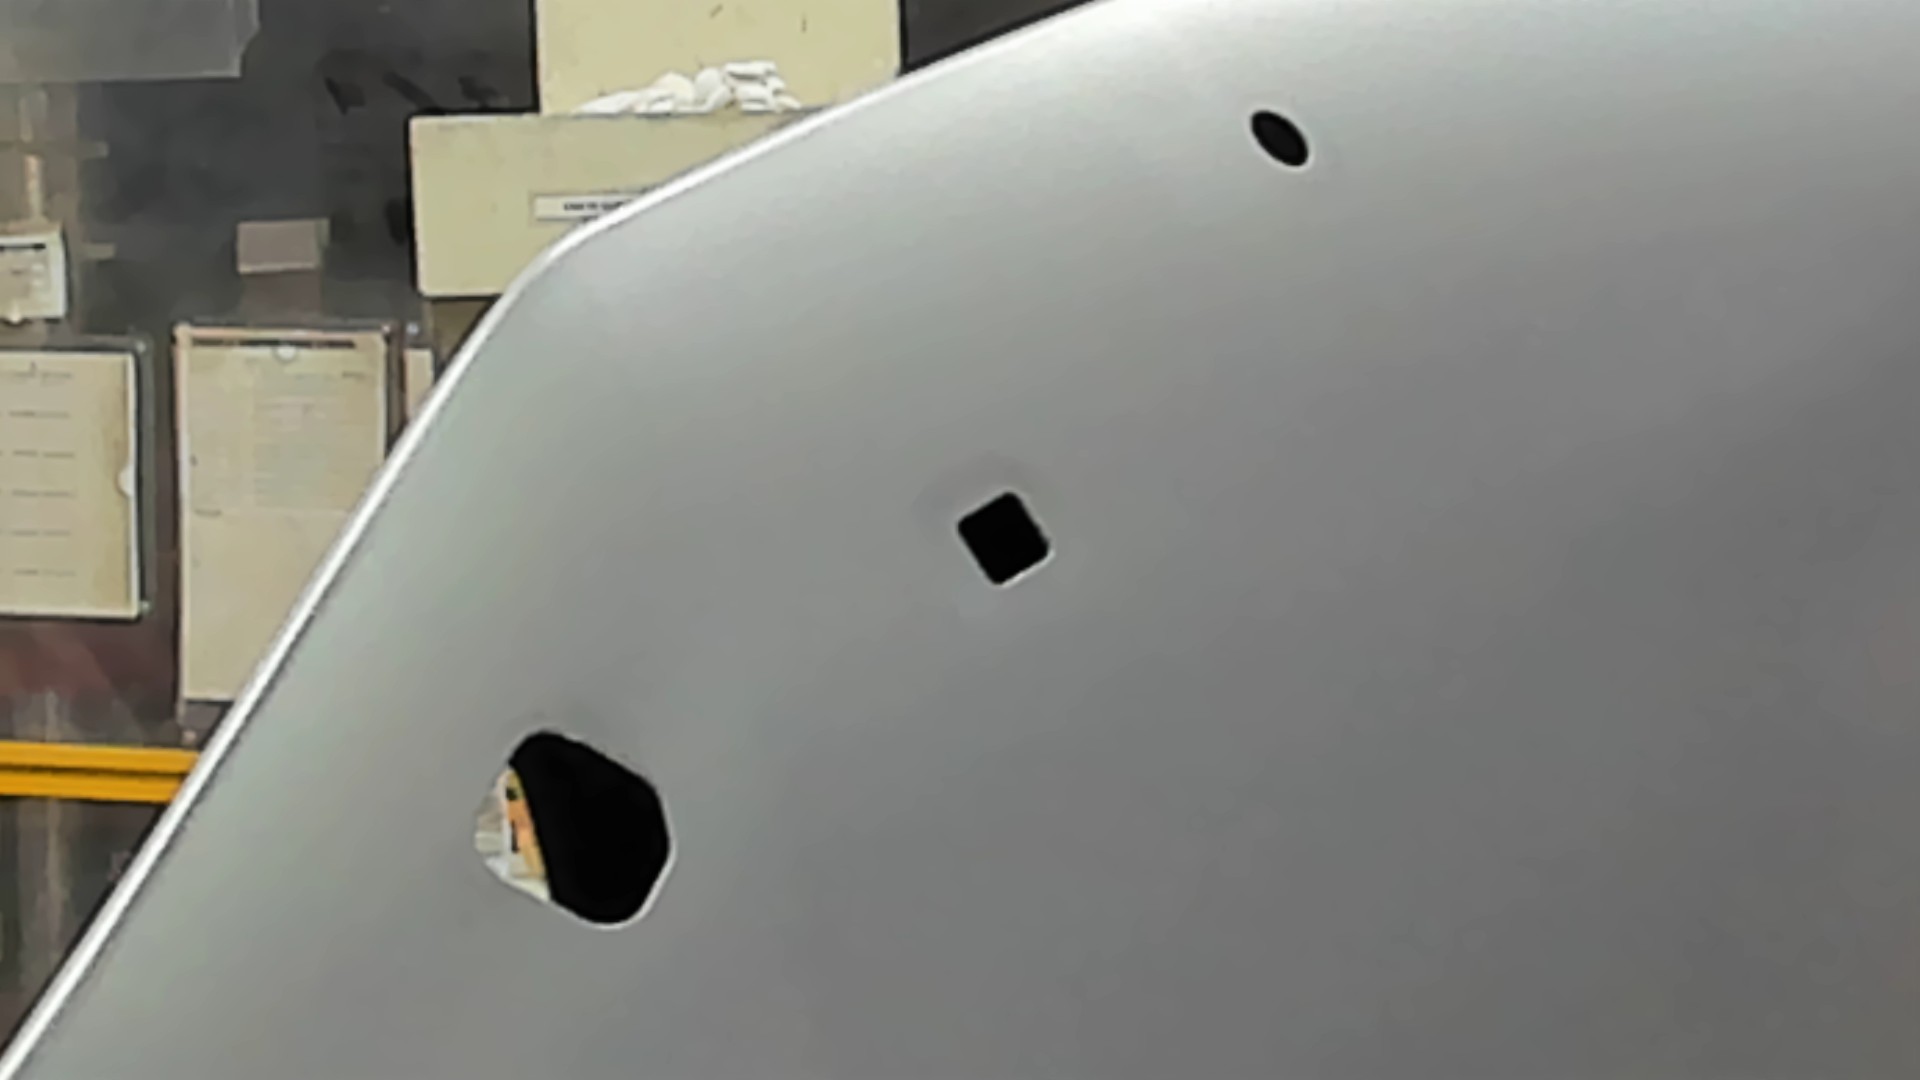capo: (1062, 171, 1920, 1080)
chico: (1241, 105, 1319, 174)
grande: (465, 723, 679, 935)
mediano: (945, 481, 1060, 591)
